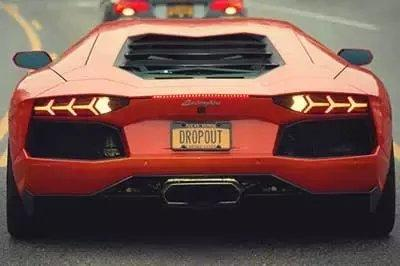Liscence Plate: (171, 123, 231, 149)
